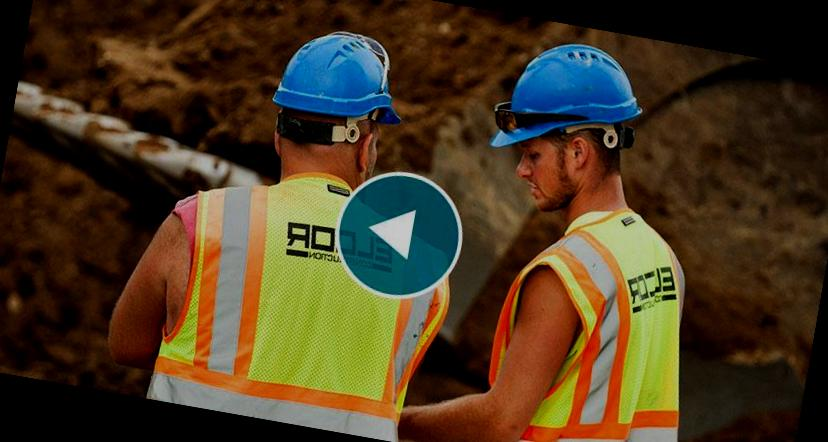helmet: (485, 28, 657, 173), (268, 25, 416, 142)
person: (137, 12, 489, 442), (436, 28, 738, 442)
